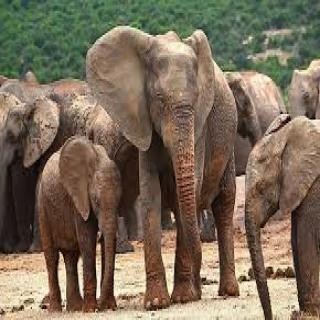Elephant: (85, 16, 240, 320), (34, 134, 124, 316), (241, 112, 320, 318)
